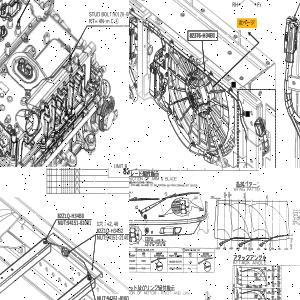PartNumber: (57, 212, 85, 219), (96, 227, 124, 234), (189, 32, 215, 38), (67, 220, 91, 226), (106, 234, 129, 240), (106, 294, 129, 300), (113, 11, 129, 17), (169, 260, 182, 264), (169, 267, 182, 270), (129, 259, 135, 262)
